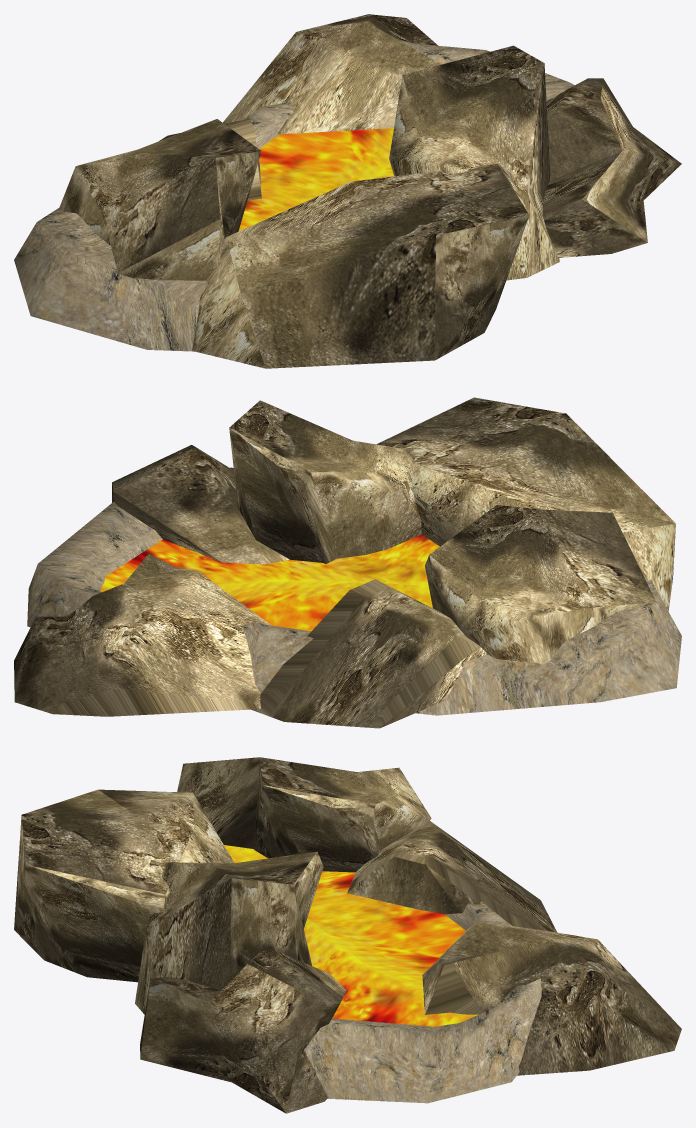
Rendered from pir_m_prp_cav_lava_pool_veryhot.fbx.
The picture shows the model from 3 angles, top to bottom: view 1: azimuth 30°, elevation 25°; view 2: azimuth 150°, elevation 25°; view 3: azimuth 270°, elevation 25°; orthographic projection. The views are drawn at different scales.
Parts seen in each view (by area): view 1: Rock_56, Rock_57, Rock_55, polySurface1, Rock_48, Rock_49, pCylinder7, Rock_58; view 2: Rock_49, Rock_56, polySurface1, Rock_57, Rock_55, Rock_58, pCylinder7, Rock_48; view 3: Rock_56, Rock_49, Rock_48, Rock_57, Rock_55, polySurface1, pCylinder7, Rock_58.
Part boxes in pixels (x1=…): Rock_56: x1=192, y1=164, x2=529, y2=368; Rock_57: x1=59, y1=119, x2=261, y2=280; Rock_55: x1=389, y1=45, x2=559, y2=280; polySurface1: x1=14, y1=40, x2=574, y2=351; Rock_48: x1=542, y1=78, x2=681, y2=257; Rock_49: x1=223, y1=14, x2=441, y2=134; pCylinder7: x1=238, y1=128, x2=393, y2=231; Rock_58: x1=159, y1=118, x2=261, y2=200; Rock_49: x1=14, y1=554, x2=271, y2=716; Rock_56: x1=376, y1=397, x2=675, y2=611; polySurface1: x1=27, y1=501, x2=681, y2=715; Rock_57: x1=425, y1=505, x2=656, y2=663; Rock_55: x1=229, y1=400, x2=421, y2=563; Rock_58: x1=251, y1=579, x2=487, y2=728; pCylinder7: x1=100, y1=534, x2=439, y2=631; Rock_48: x1=112, y1=445, x2=289, y2=564; Rock_56: x1=14, y1=789, x2=233, y2=982; Rock_49: x1=422, y1=921, x2=681, y2=1075; Rock_48: x1=140, y1=948, x2=346, y2=1113; Rock_57: x1=177, y1=757, x2=431, y2=872; Rock_55: x1=135, y1=851, x2=323, y2=1014; polySurface1: x1=304, y1=901, x2=541, y2=1103; pCylinder7: x1=224, y1=845, x2=477, y2=1026; Rock_58: x1=347, y1=821, x2=557, y2=932.
Size of the model in its own units: 3754 by 935 by 3473.
Materials: 3 (3 with a texture image).
